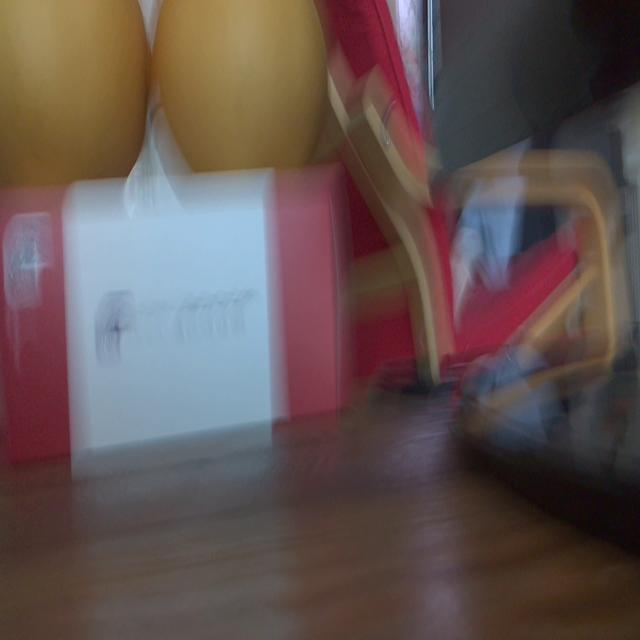pear: (154, 0, 325, 165), (1, 0, 151, 179)
